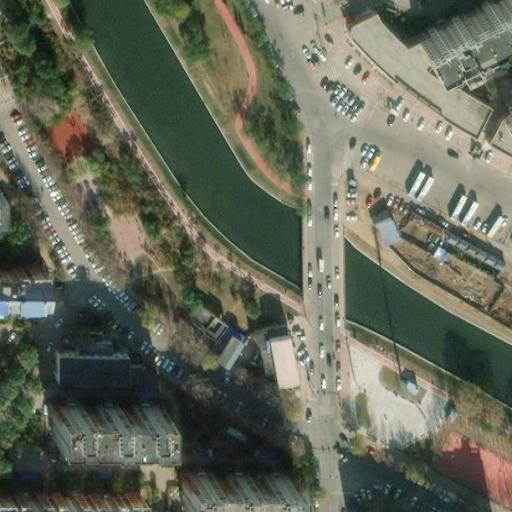building: (339, 8, 480, 130), (415, 0, 512, 61), (45, 402, 156, 438), (174, 472, 285, 506), (435, 223, 496, 262), (0, 268, 52, 313), (52, 354, 121, 381), (180, 296, 222, 336), (261, 330, 288, 388), (207, 330, 239, 367), (483, 113, 512, 147), (397, 204, 434, 230), (486, 89, 512, 125), (367, 212, 391, 242), (0, 187, 15, 233)
